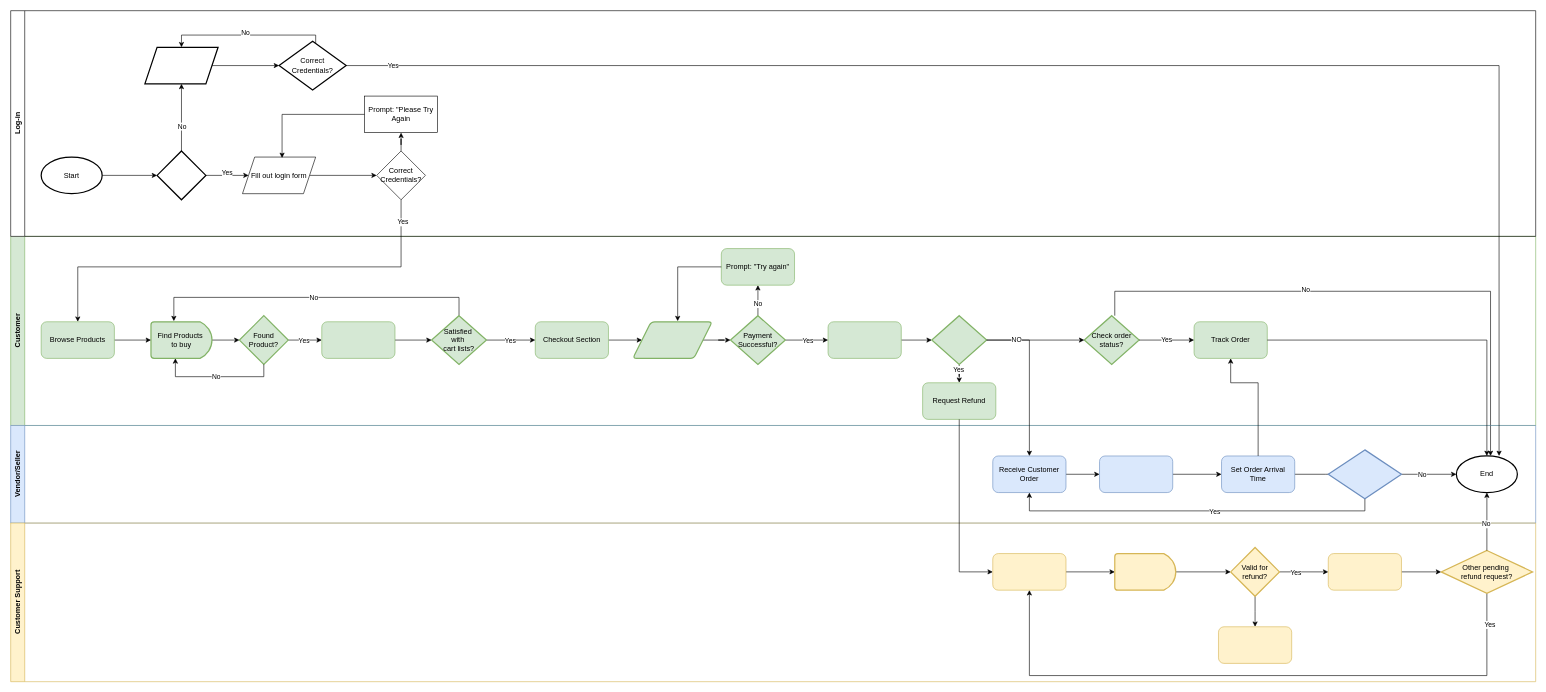
Image size: 1546x692. Some labels were removed from this diagram. The shapes that lost their labels are listed below. From the top down, each one's centre as x and y in pixels, then its label:
point (181, 65): Fill out registration form
point (181, 175): Registered?
point (358, 339): Add To Cart
point (672, 340): Fill out form for payment
point (864, 339): Prompt: "Purchase Successful"
point (959, 340): Refund?
point (1136, 474): Prepare Products Ordered
point (1364, 474): Other pending orders?
point (1029, 571): Received refund request
point (1145, 571): Check validity of the request
point (1364, 571): Prompt User: "Refund Successfully"
point (1255, 644): Prompt User: "Refund Unsuccessfully"
